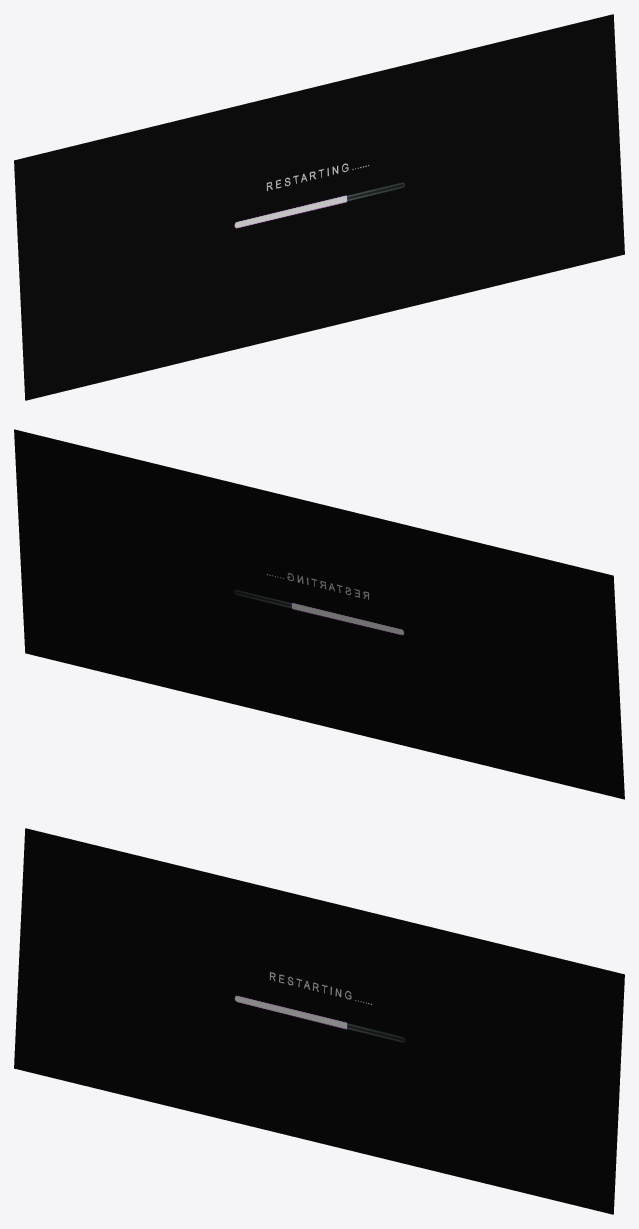
File: ScreenHMI_Boot.glb
3 renders of one model, top to bottom at view 1: azimuth 30°, elevation 25°; view 2: azimuth 150°, elevation 25°; view 3: azimuth 330°, elevation 25°, orthographic.
Visible parts, largest first — view 1: ScreenHMI_Boot; view 2: ScreenHMI_Boot; view 3: ScreenHMI_Boot.
Part boxes in pixels (<box>): ScreenHMI_Boot: <box>14,14,624,400</box>; ScreenHMI_Boot: <box>14,429,624,799</box>; ScreenHMI_Boot: <box>14,828,624,1214</box>.
Bounding box in the file's own units: 0.266 × 0.0984 × 0.00861.
Materials: 1 (1 with a texture image).
